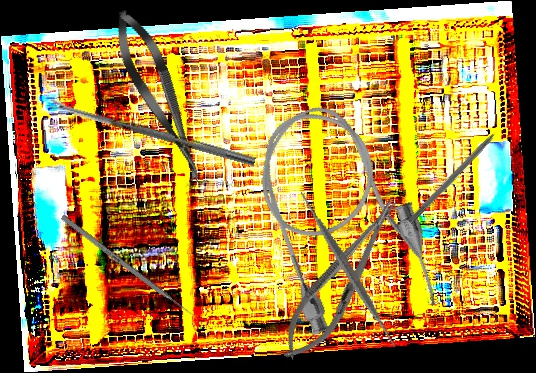Cannula: (236, 87, 449, 350)
Hook Surgical: (407, 120, 509, 226)
Micro Scissor: (104, 3, 215, 191)
Needle Holder: (269, 188, 414, 372)
Pusher: (60, 214, 200, 322)
Spatula Surgical: (259, 182, 437, 358)
Surgical Spoon: (48, 97, 257, 167)
